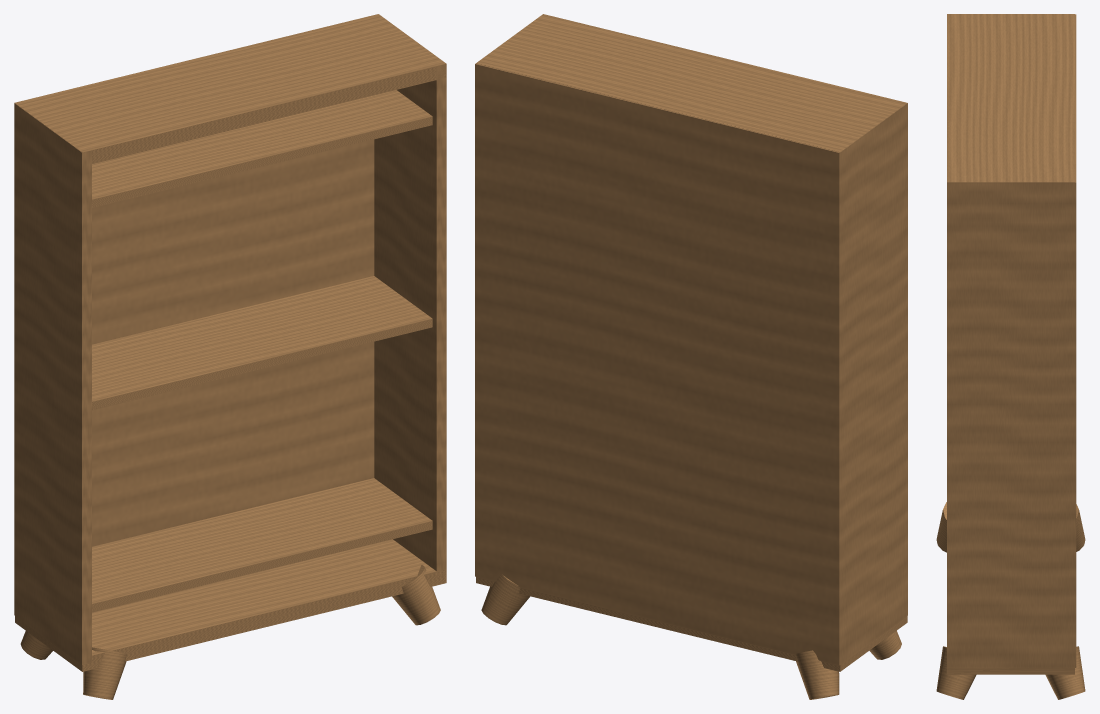
File: bookcase_fjord-eee6bc7c003f.glb
3 views of the same model, side by side, from view 1: azimuth 30°, elevation 25°; view 2: azimuth 150°, elevation 25°; view 3: azimuth 270°, elevation 25° (orthographic). The views are drawn at different scales.
Parts seen in each view (by area): view 1: surface_oak; view 2: surface_oak; view 3: surface_oak.
Part boxes in pixels (box(x1,y1,x2,y2)): surface_oak: box(14, 14, 446, 699); surface_oak: box(475, 14, 907, 699); surface_oak: box(936, 14, 1085, 699).
Size of the model in its own units: 1.06 by 1.55 by 0.3965.
Materials: 1 (1 with a texture image).
